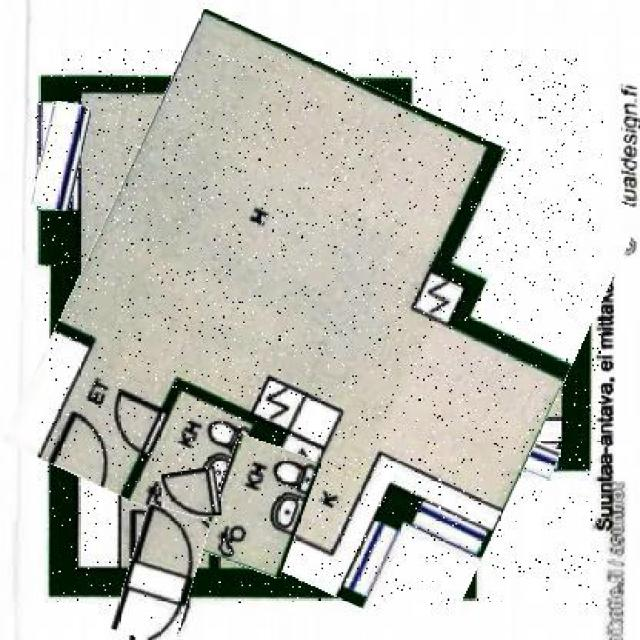door: (42, 49, 603, 606), (208, 440, 312, 574)
window: (118, 506, 202, 640), (162, 468, 220, 523)
zone: (37, 101, 86, 210), (486, 432, 560, 476), (443, 477, 480, 554)
